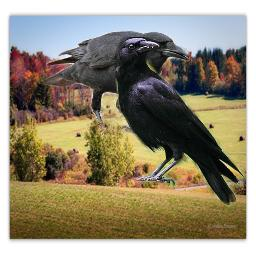Crow: (114, 37, 246, 207), (39, 31, 190, 135)
